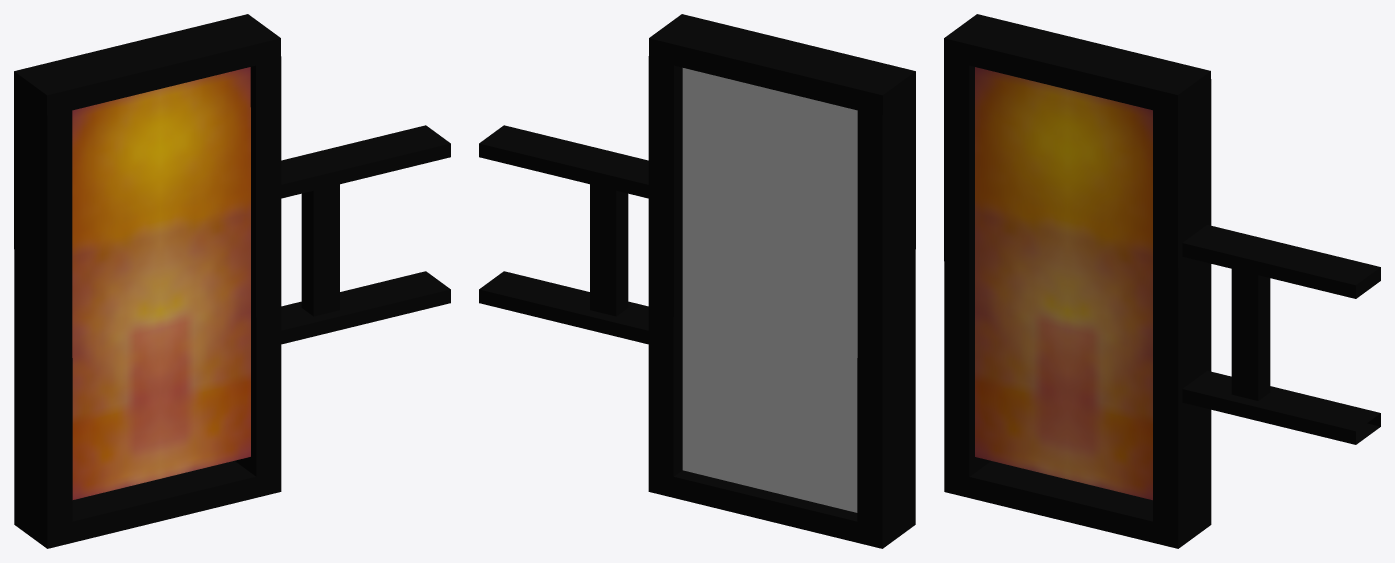
File: Japanese_Sign_12_Art.fbx
3 views of the same model, side by side, from view 1: azimuth 30°, elevation 25°; view 2: azimuth 150°, elevation 25°; view 3: azimuth 330°, elevation 25° (orthographic).
Visible parts, largest first — view 1: Japanese_Sign_12; view 2: Japanese_Sign_12; view 3: Japanese_Sign_12.
Boxes of the visible parts, box(x1,y1,x2,y2) form: Japanese_Sign_12: box(14, 14, 450, 548); Japanese_Sign_12: box(479, 14, 915, 548); Japanese_Sign_12: box(944, 14, 1380, 548).
Bounding box in the file's own units: 0.6693 × 0.7115 × 0.0941.
